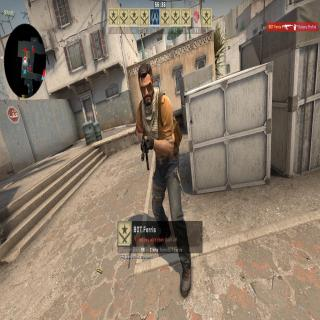T-Body: (137, 70, 190, 291)
T-Head: (138, 64, 155, 108)
